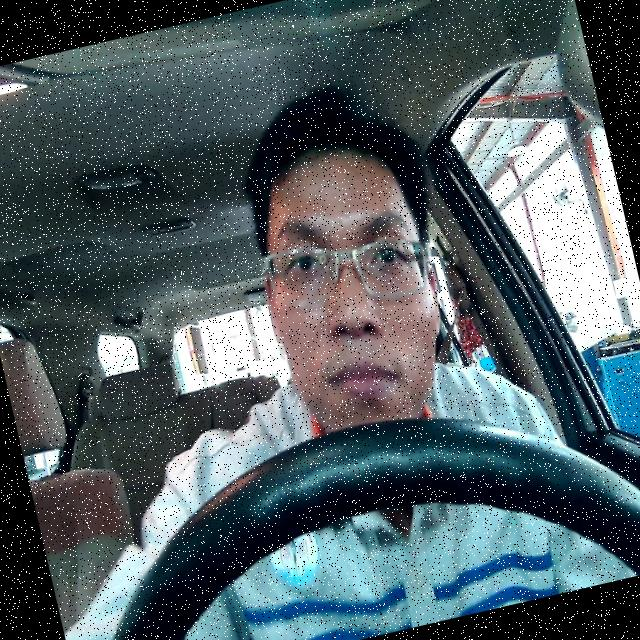focused: (233, 128, 463, 439)
